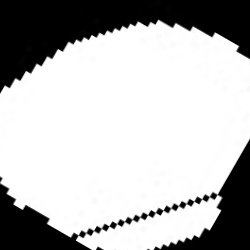spot: (1, 21, 247, 249)
